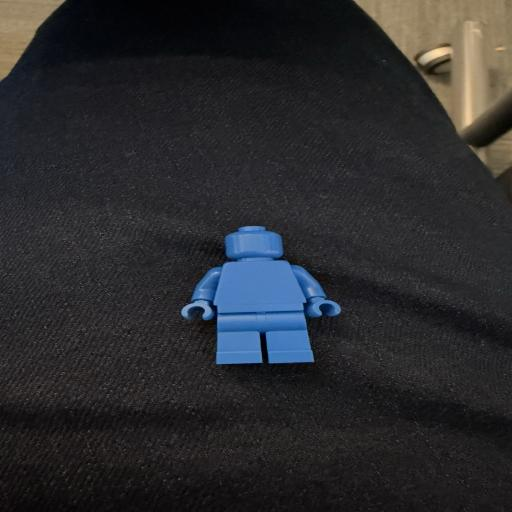Minifig: (180, 225, 342, 365)
